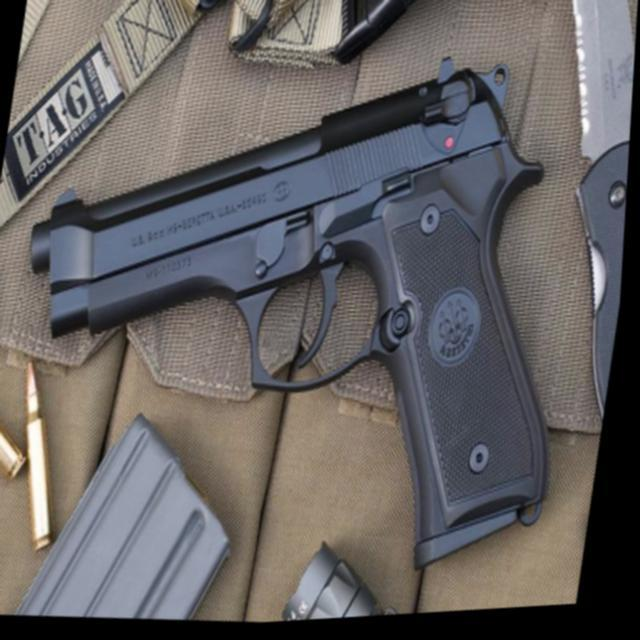weapon: (0, 18, 613, 602)
